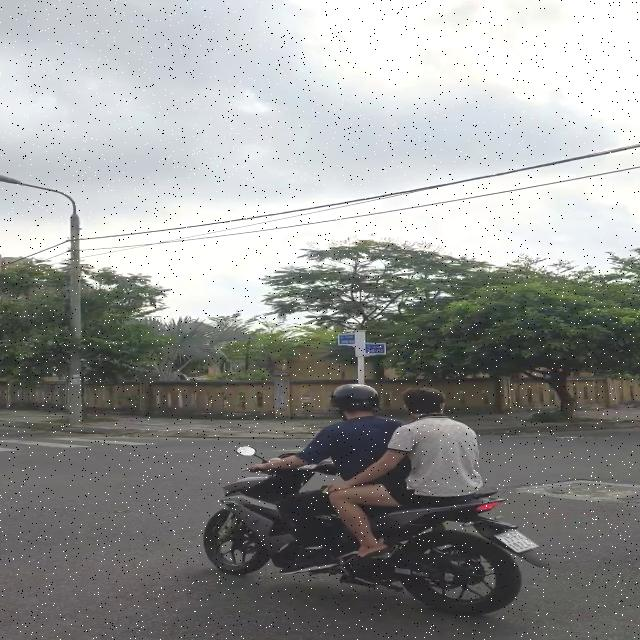helmet: (331, 384, 383, 428)
no_helmet: (399, 383, 456, 422)
